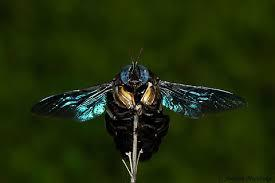Xylocopa: (28, 51, 245, 168)
